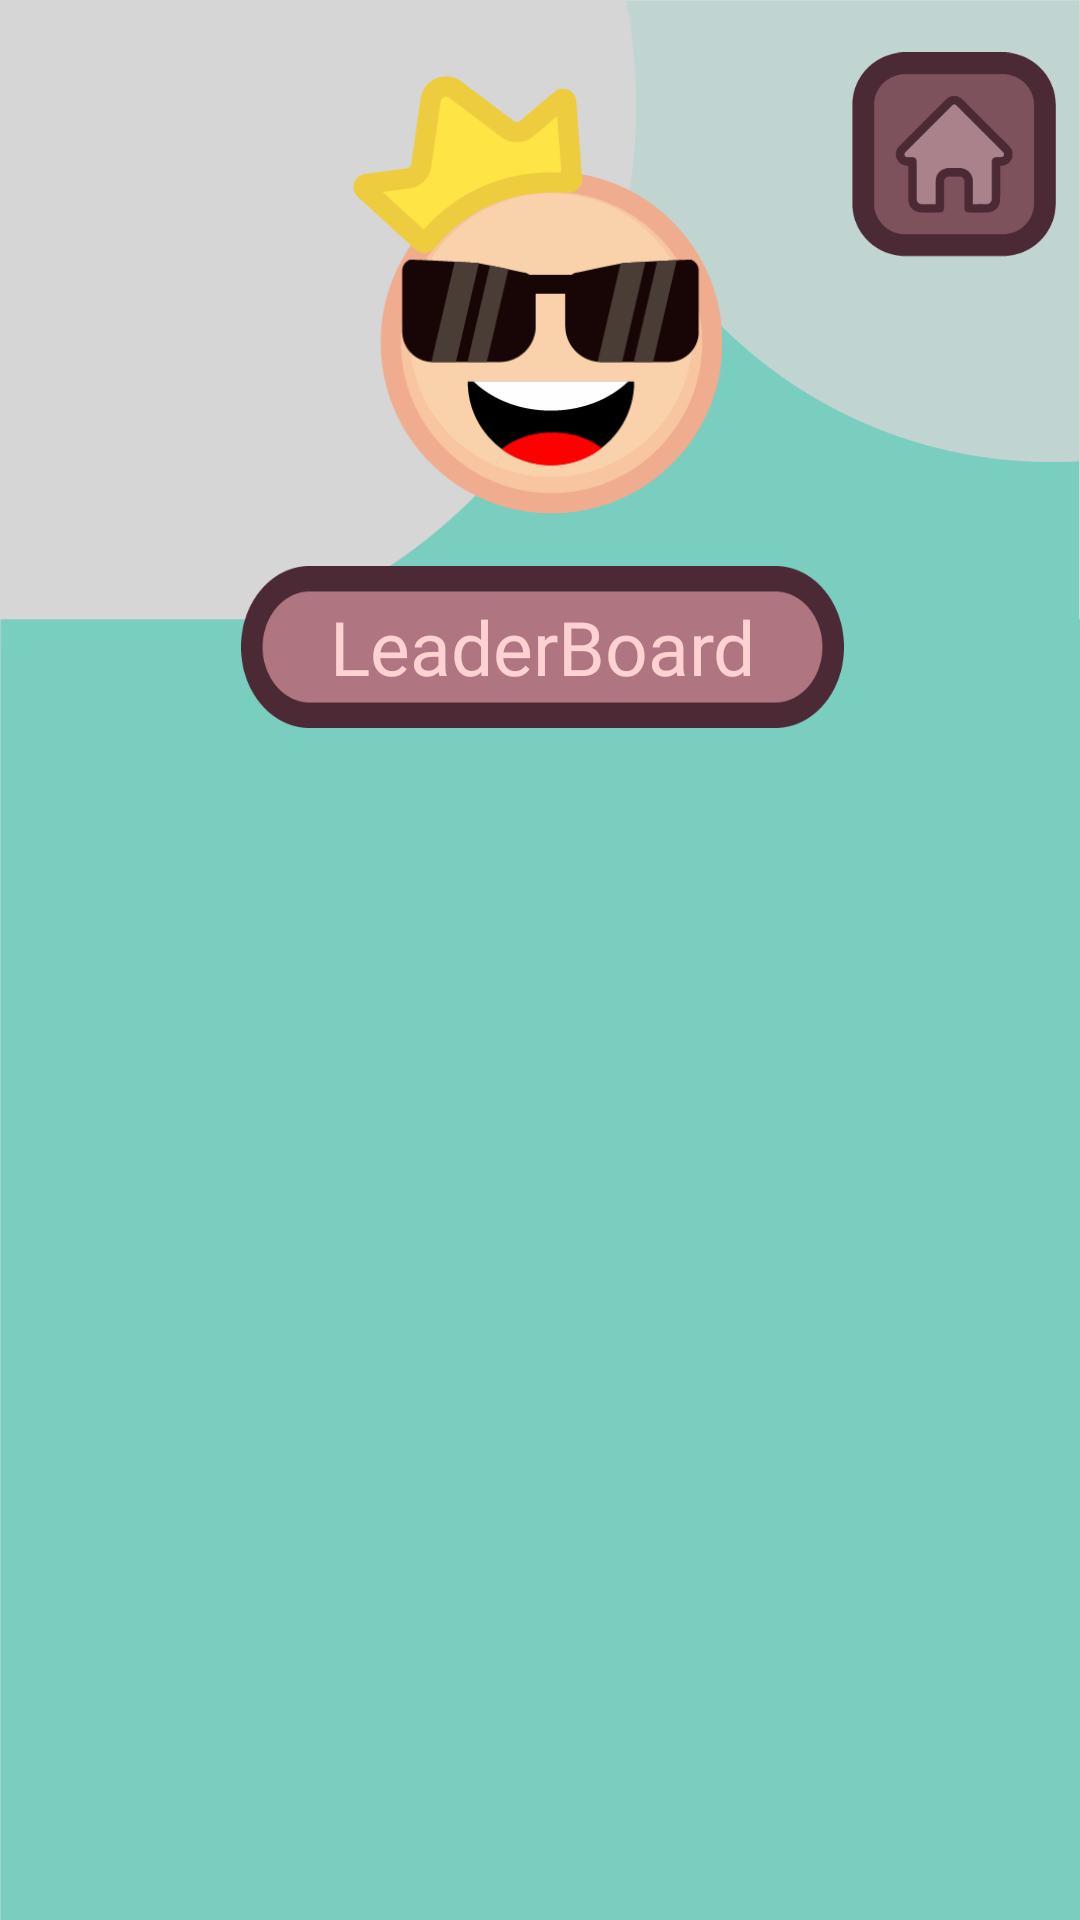

Icons on this 1080 x 1920 Android screen, each with its box as [left=x1, top=y1, right=x2, bottom=y2]:
score home: [left=852, top=52, right=1056, bottom=257]
